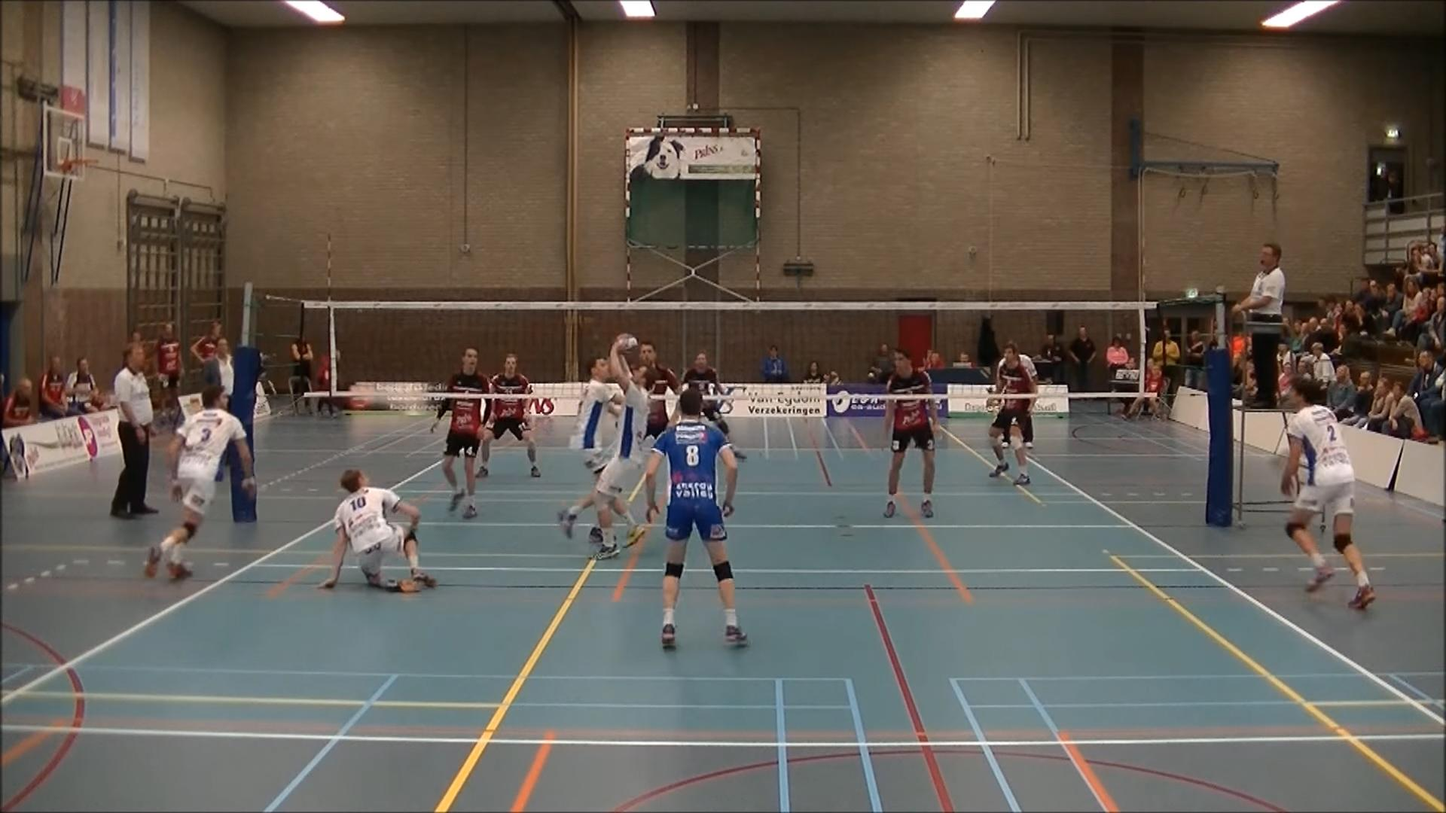Player: (645, 390, 746, 647), (1281, 376, 1374, 609), (144, 385, 255, 579), (319, 470, 436, 592), (559, 357, 624, 537), (431, 348, 489, 518), (884, 349, 938, 517), (477, 353, 540, 477), (989, 343, 1036, 485), (639, 341, 682, 439), (682, 352, 730, 437)
Set: (582, 332, 654, 559)
ball: (611, 326, 638, 352)
